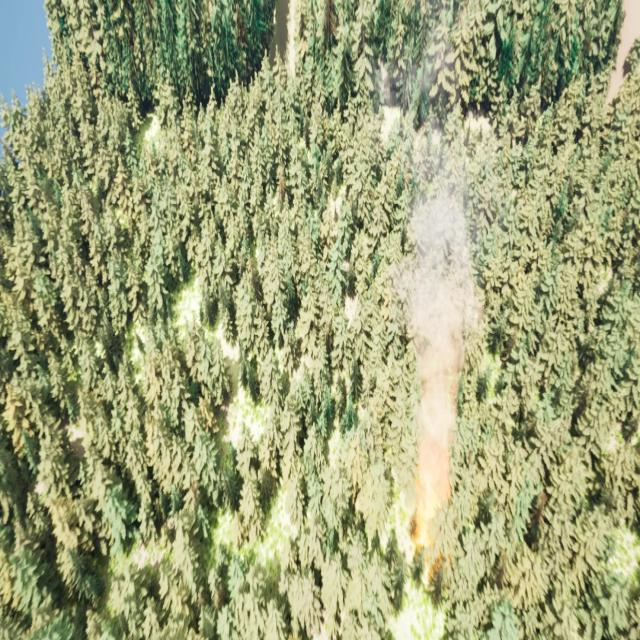fire: (408, 495, 447, 587)
smoke: (397, 47, 488, 493)
